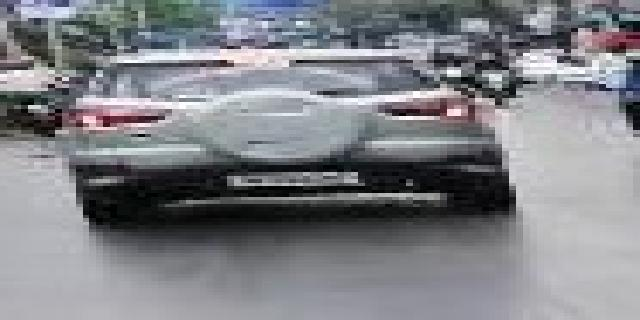Car: (79, 42, 519, 238)
